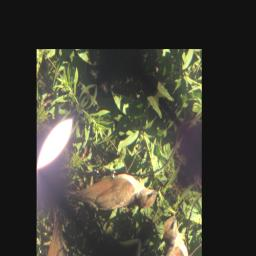Cuckoo: (58, 119, 164, 256)
